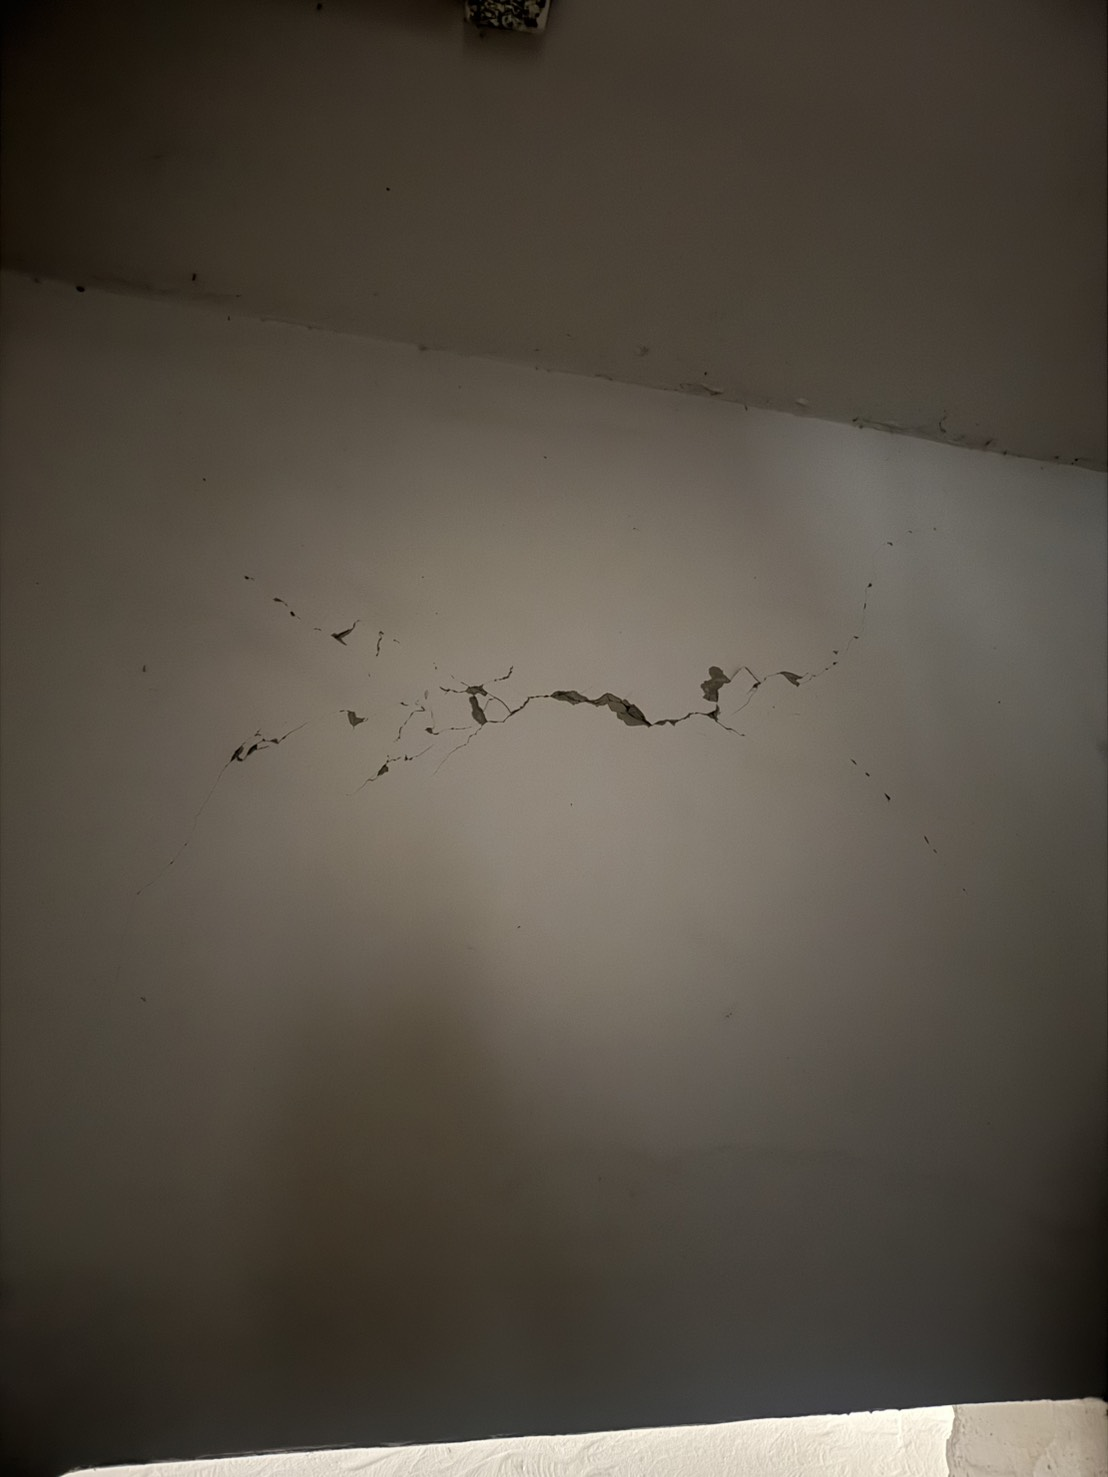Medium: (215, 532, 933, 878)
